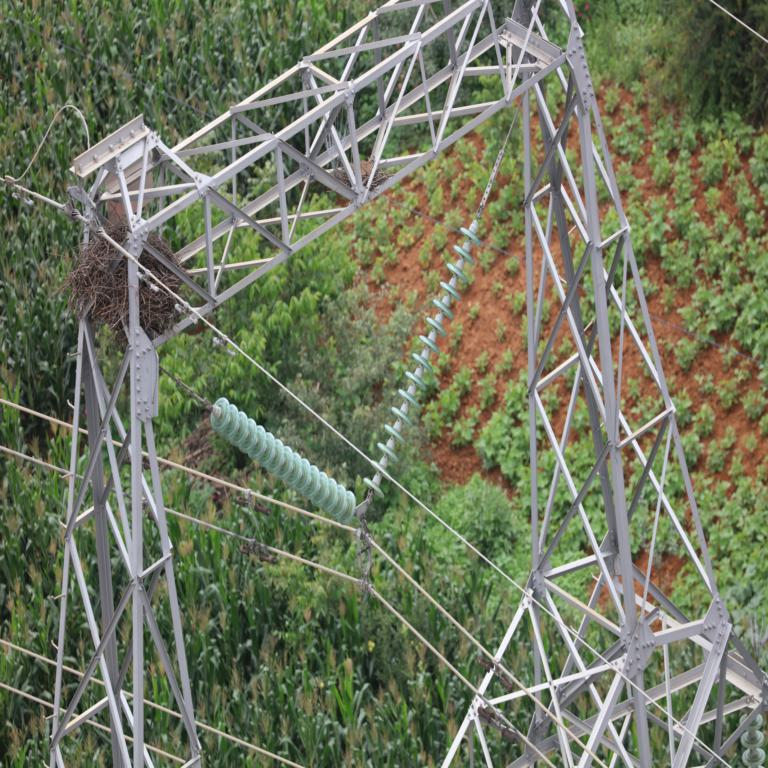nest: (70, 230, 175, 333)
